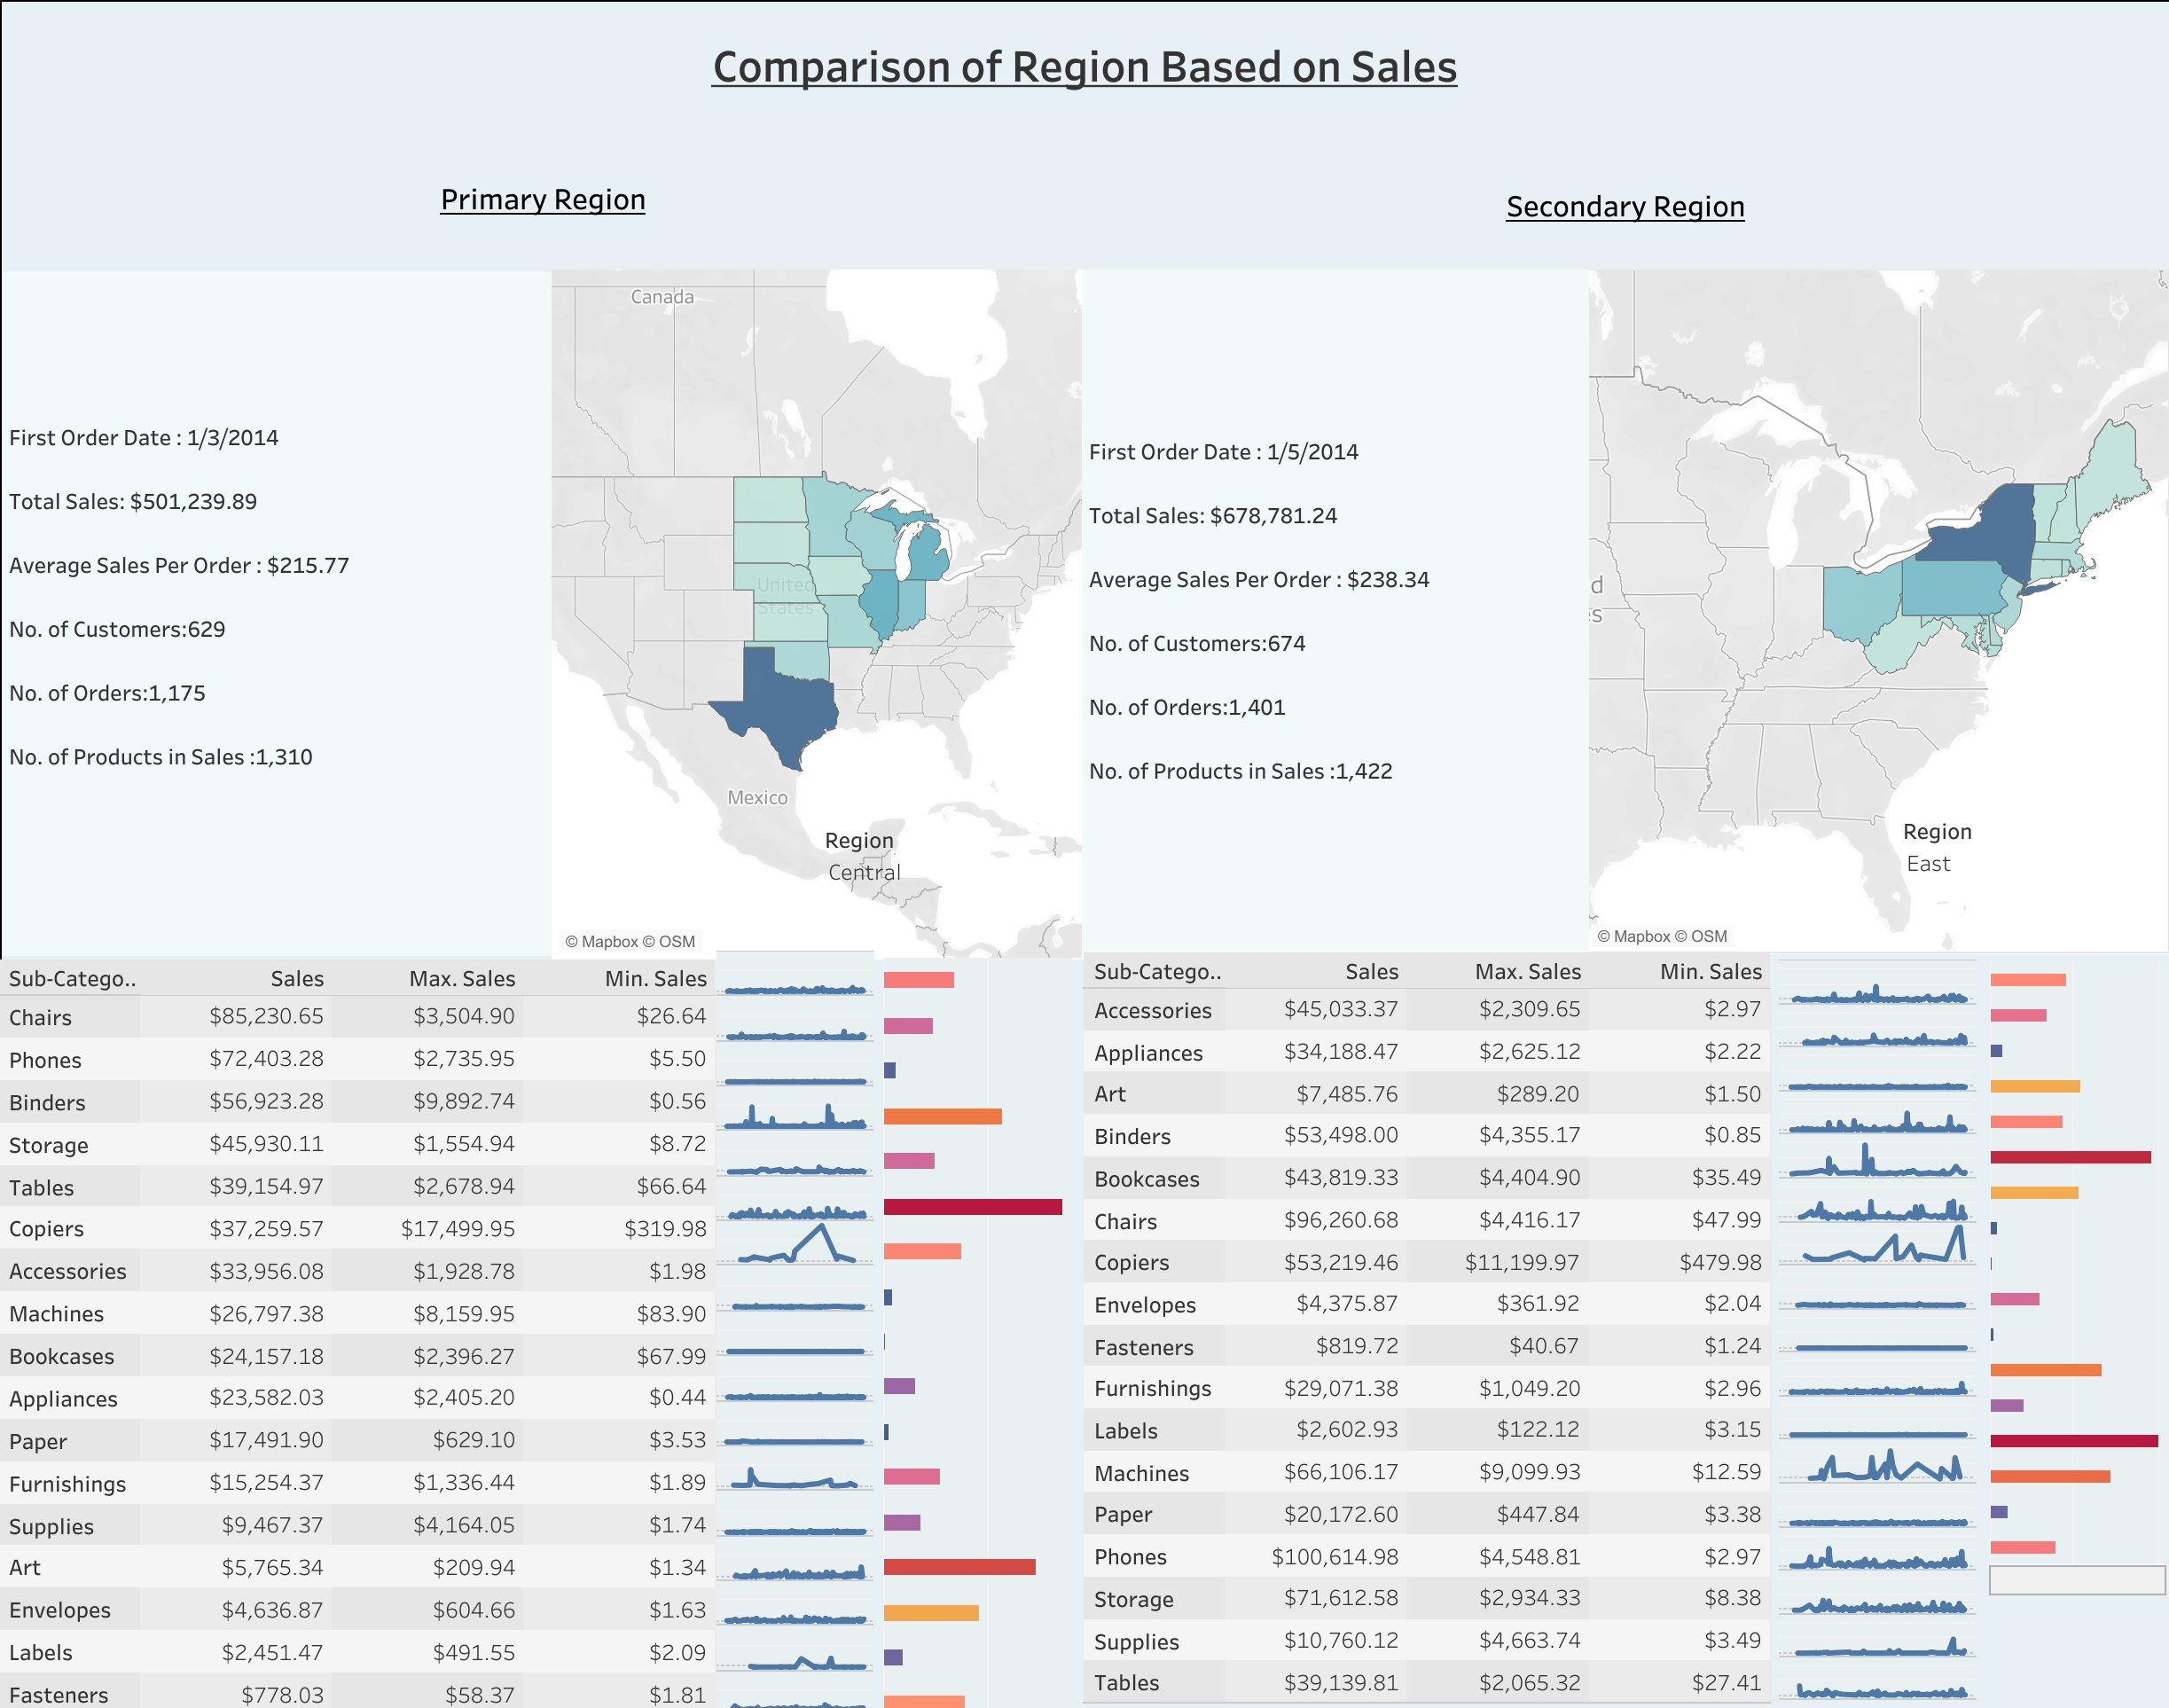

What the dashboard file says about the page in this screenshot:
{"tool":"tableau","page":{"name":"Sales Comparison Dashboard","canvas":[1000,1000],"units":"permille","ordinal":0},"visuals":[{"type":"title","box":[0.8,1.6,998.4,111.1]},{"type":"text","box":[2.4,75.5,496,79.4]},{"type":"text","box":[498.4,83.3,501.6,72.9]},{"type":"worksheet","title":"Primary Map","mark":"Multipolygon","box":[254.4,157.6,244,402.3]},{"type":"worksheet","title":"Secondary Measure","mark":"Automatic","box":[498.4,157.6,232.8,398.4]},{"type":"worksheet","title":"Secondary Map ","mark":"Multipolygon","box":[729.7,157.6,270.3,401]},{"type":"worksheet","title":"Primary Measure","mark":"Automatic","box":[0.8,158.8,252.8,399.7]},{"type":"filter","title":"Secondary Map ","param":"[federated.1udailm0zfd7m71a149wn0v9e1ww].[none:Region:nk]","box":[876.9,475.1,120.8,79.2]},{"type":"filter","title":"Primary Map","param":"[federated.1udailm0zfd7m71a149wn0v9e1ww].[none:Region:nk]","box":[379.8,480.7,115.1,71.8]},{"type":"worksheet","title":"Secondary Sales Cal","mark":"Automatic","rows":["Sub-Category"],"box":[496,553.4,323.8,447.9]},{"type":"worksheet","title":"Primary Yearly Sales","mark":"Automatic","rows":["Sub-Category","Sales"],"cols":["Order Date"],"box":[330.3,556.2,72.5,447.5]},{"type":"worksheet","title":"Secondary Yearly Sales","mark":"Automatic","rows":["Sub-Category","Sales"],"cols":["Order Date"],"box":[815.8,557.3,98.1,442.7]},{"type":"worksheet","title":"Secondary Sub-Cat Sales","mark":"Automatic","rows":["Sub-Category"],"cols":["Sales"],"box":[913.1,558.6,87.7,442.7]}]}

Visuals, with their boxes on the dashboard's canvas, which has no fixed pixel size, in thousandths of its width and height (x1, y1, x2, y2). These are canvas units, not pixel positions in the 2169x1708 screenshot, which may show the page scaled, cropped or inside an application window:
title: x1=1 y1=2 x2=999 y2=113
text: x1=2 y1=76 x2=498 y2=155
text: x1=498 y1=83 x2=1000 y2=156
"Primary Map" worksheet (Multipolygon marks): x1=254 y1=158 x2=498 y2=560
"Secondary Measure" worksheet: x1=498 y1=158 x2=731 y2=556
"Secondary Map " worksheet (Multipolygon marks): x1=730 y1=158 x2=1000 y2=559
"Primary Measure" worksheet: x1=1 y1=159 x2=254 y2=558
"Secondary Map " filter: x1=877 y1=475 x2=998 y2=554
"Primary Map" filter: x1=380 y1=481 x2=495 y2=552
"Secondary Sales Cal" worksheet: x1=496 y1=553 x2=820 y2=1001
"Primary Yearly Sales" worksheet: x1=330 y1=556 x2=403 y2=1004
"Secondary Yearly Sales" worksheet: x1=816 y1=557 x2=914 y2=1000
"Secondary Sub-Cat Sales" worksheet: x1=913 y1=559 x2=1001 y2=1001
